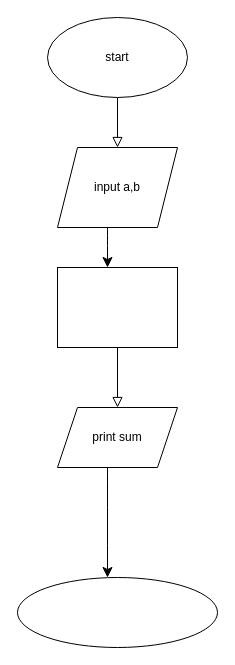
This 235x665 diagram has some shape labels left out. Here are the shapes that lost their labels. From the top down, the centre of each, then its label:
[117,307]: sum a+b
[117,612]: stop
